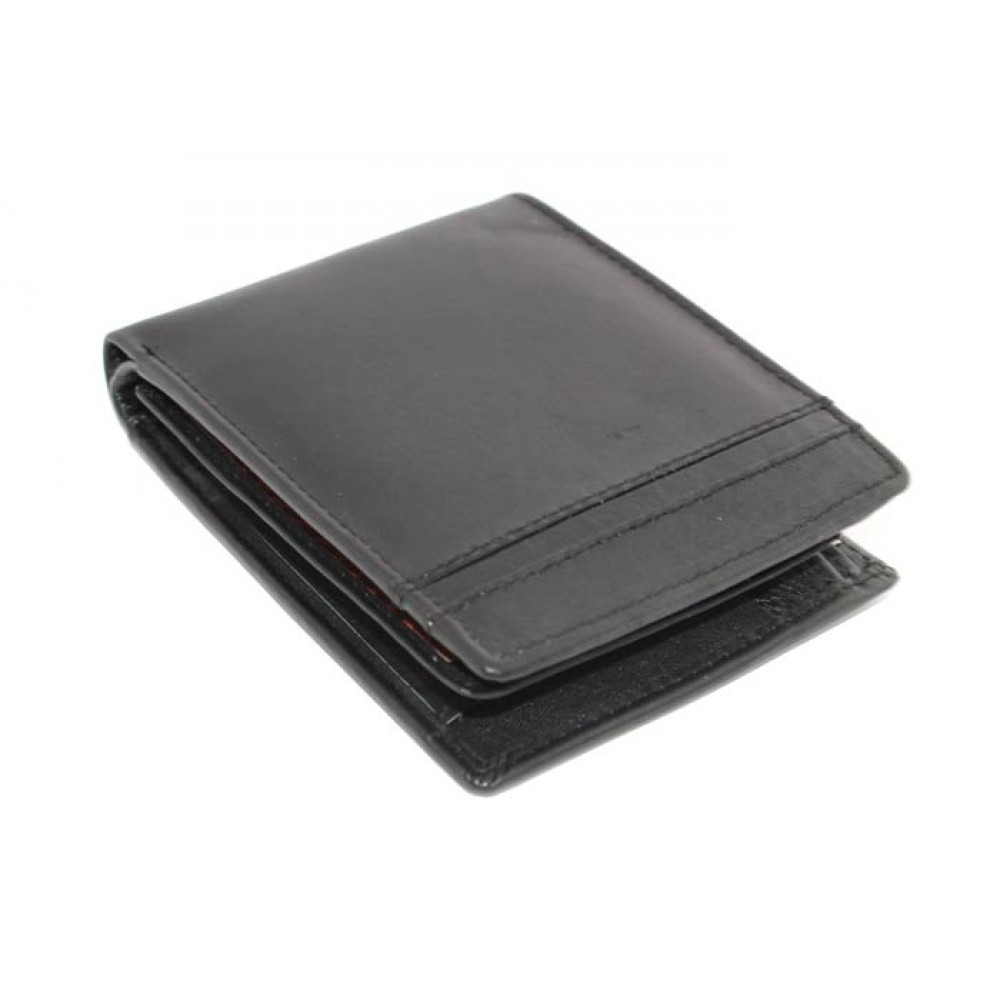monedero: (96, 190, 919, 804)
